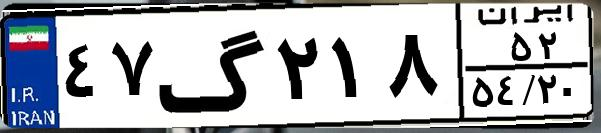0: (560, 70, 590, 125)
1: (330, 28, 385, 110)
2: (270, 28, 330, 110), (537, 27, 568, 80), (535, 70, 560, 125)
4: (57, 26, 110, 100), (495, 70, 520, 125)
5: (508, 27, 537, 80), (470, 70, 495, 125)
7: (110, 28, 156, 98)
8: (385, 28, 445, 110)
گ: (156, 12, 270, 120)
